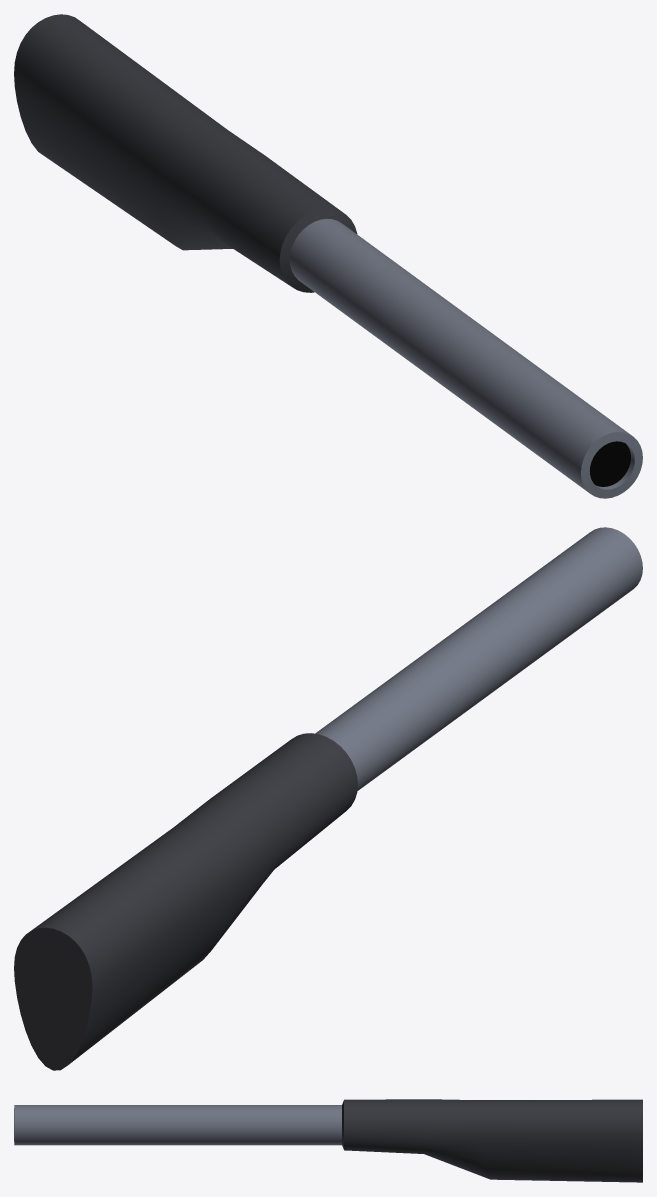
Rendered from Sniper.fbx.
3 views of the same model, one above another, from view 1: azimuth 30°, elevation 25°; view 2: azimuth 150°, elevation 25°; view 3: azimuth 270°, elevation 25° (orthographic). The views are drawn at different scales.
Parts seen in each view (by area): view 1: Cylinder; view 2: Cylinder; view 3: Cylinder.
Boxes of the visible parts, left/top/right/bottom form: Cylinder: left=14, top=14, right=642, bottom=498; Cylinder: left=14, top=527, right=642, bottom=1070; Cylinder: left=14, top=1099, right=642, bottom=1182.
Size of the model in its own units: 9.01 by 15.61 by 111.
